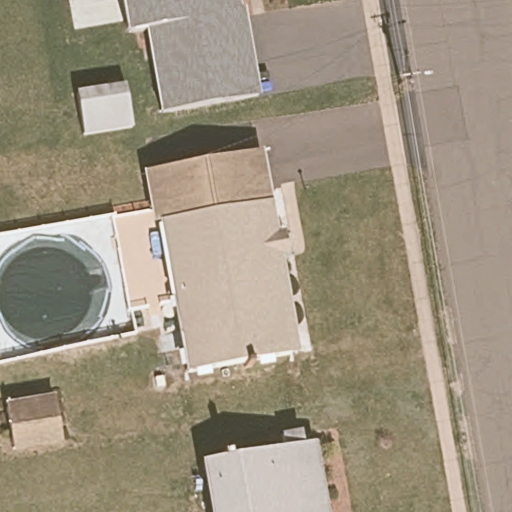DT: (400, 68, 434, 92)
